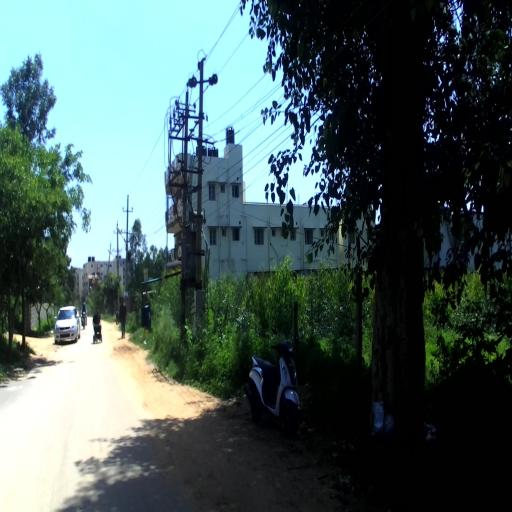street_light_0: (116, 227, 129, 250), (108, 248, 119, 270)
